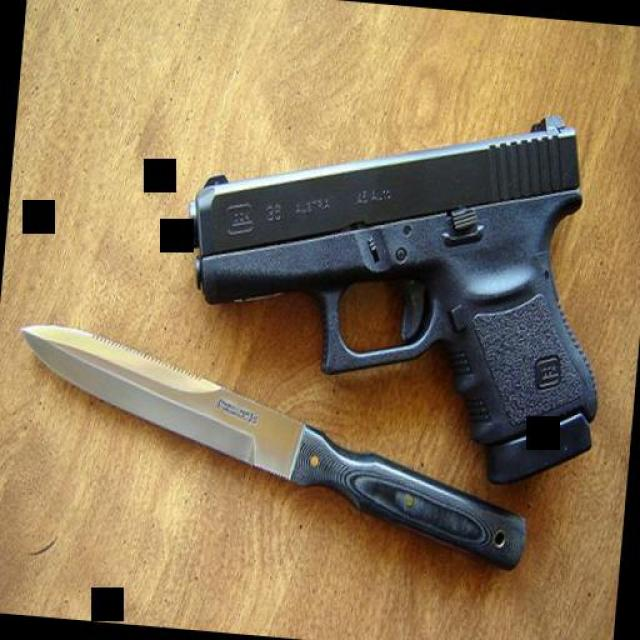gun: (162, 75, 622, 493)
